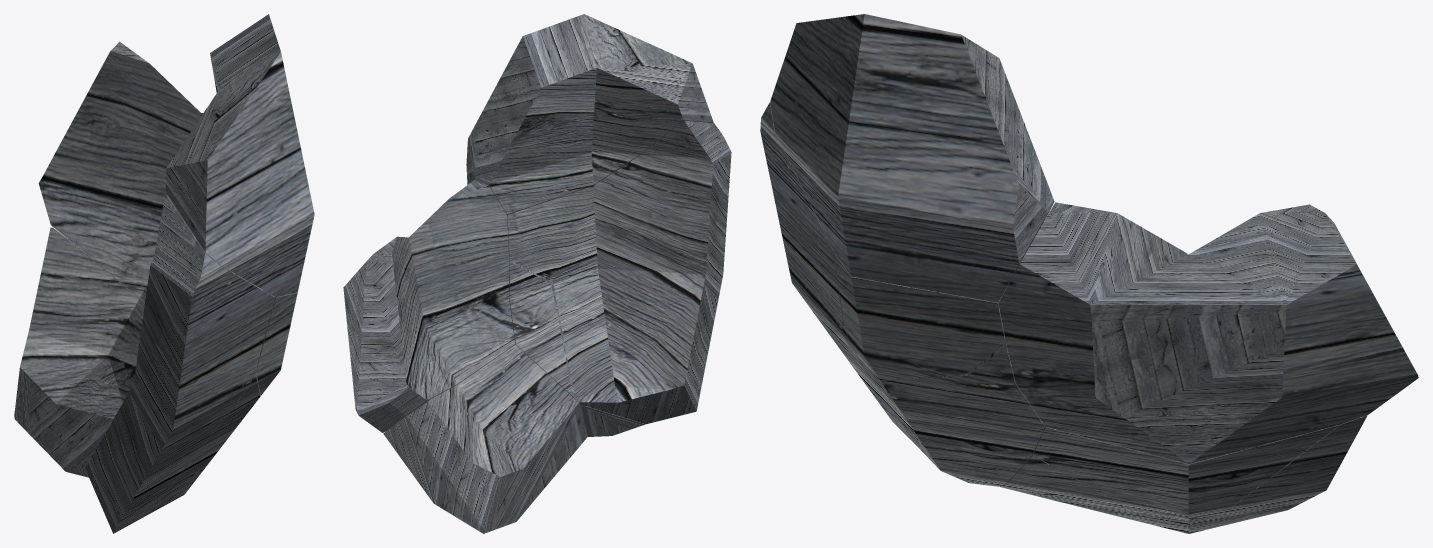
Rendered from Fracture002.dae.
3 views of the same model, side by side, from view 1: azimuth 30°, elevation 25°; view 2: azimuth 150°, elevation 25°; view 3: azimuth 270°, elevation 25° (orthographic). The views are drawn at different scales.
Visible parts, largest first — view 1: Sphere_001_cell_023; view 2: Sphere_001_cell_023; view 3: Sphere_001_cell_023.
Part boxes in pixels (<box>): Sphere_001_cell_023: <box>14,14,314,533</box>; Sphere_001_cell_023: <box>343,14,731,533</box>; Sphere_001_cell_023: <box>760,14,1418,533</box>.
Bounding box in the file's own units: 0.7542 × 1.57 × 1.46.
